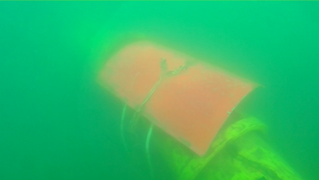leak: (95, 37, 254, 157)
pipe: (120, 102, 302, 180), (71, 13, 148, 94)
